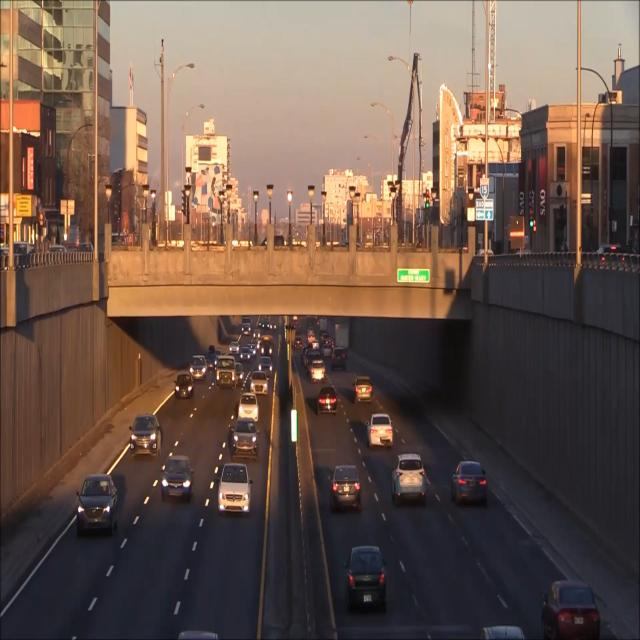Car: (541, 579, 601, 640), (343, 546, 391, 614), (76, 472, 120, 538), (390, 454, 429, 508), (215, 463, 252, 517), (450, 460, 489, 511), (328, 464, 363, 514), (128, 412, 162, 461), (161, 453, 194, 502), (231, 419, 260, 458), (366, 413, 394, 449), (237, 391, 261, 421), (216, 356, 237, 389), (353, 374, 374, 406), (316, 388, 338, 417), (174, 374, 194, 400), (189, 355, 208, 381), (250, 372, 269, 396)
